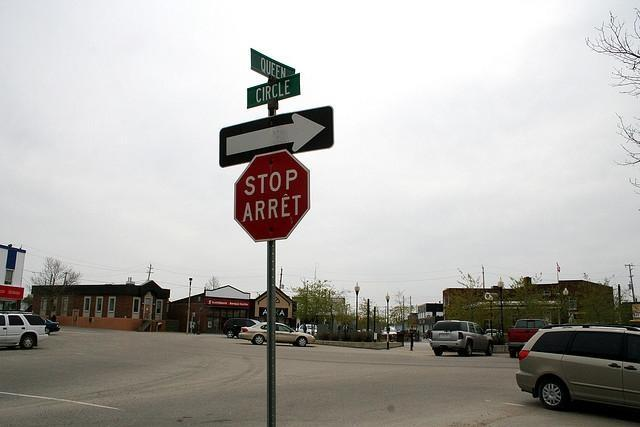car: (511, 326, 639, 413), (429, 320, 495, 358), (238, 322, 316, 347), (0, 314, 49, 351), (222, 318, 260, 338), (40, 316, 61, 334), (296, 323, 318, 336), (382, 326, 398, 342), (486, 329, 500, 337)
truck: (507, 319, 548, 358)
